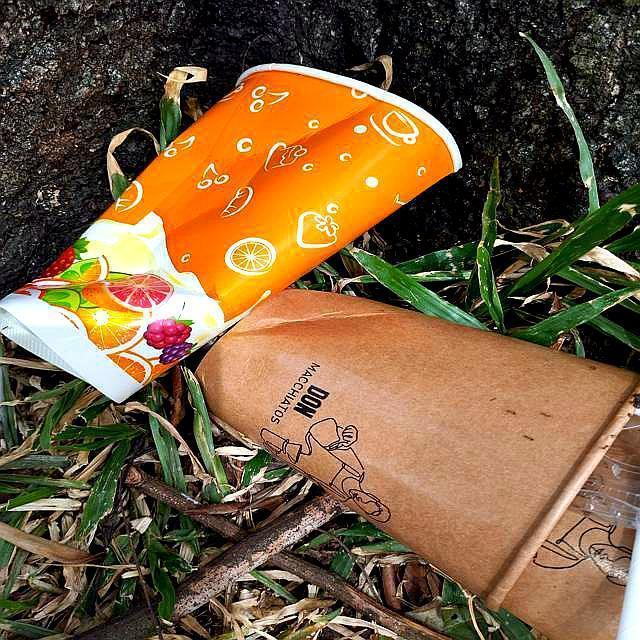Biodegradable: (1, 41, 499, 409), (194, 287, 640, 640)
